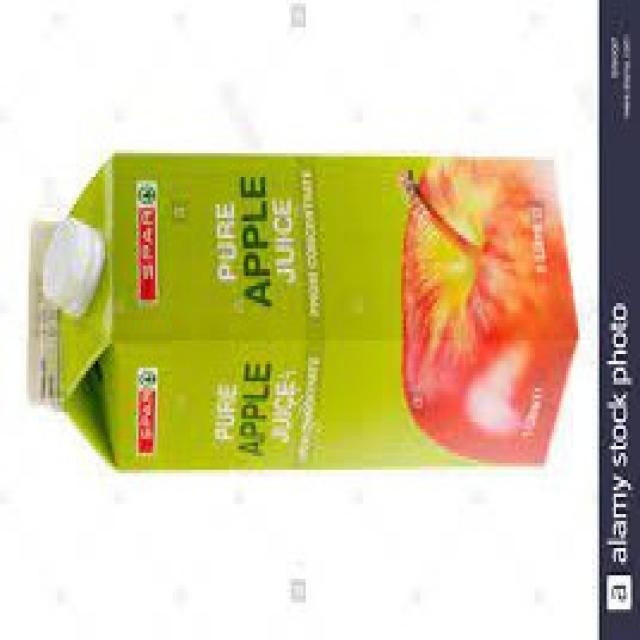non_white_jug: (21, 147, 582, 477)
